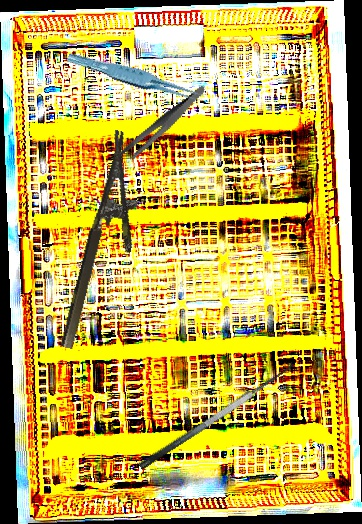Dressing Forceps: (106, 84, 220, 165)
Needle Holder: (57, 129, 161, 358)
Spatula Surgical: (129, 352, 299, 471)
Tissue Forceps: (66, 43, 205, 113)
